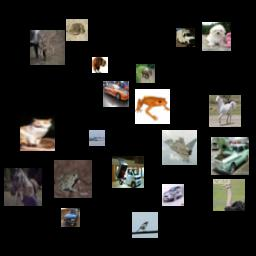airplane: (162, 130, 197, 165)
automobile: (211, 137, 249, 175), (103, 81, 129, 107), (162, 184, 184, 206), (61, 208, 80, 227)
bird: (213, 179, 245, 211), (132, 212, 158, 238), (92, 57, 108, 73)
cat: (20, 116, 55, 151)
deer: (30, 30, 65, 65)
dog: (202, 22, 231, 51)
frog: (54, 160, 92, 198), (135, 89, 170, 124), (66, 19, 88, 41)
ship: (89, 130, 105, 146)
truck: (112, 156, 144, 188), (176, 28, 195, 47)
